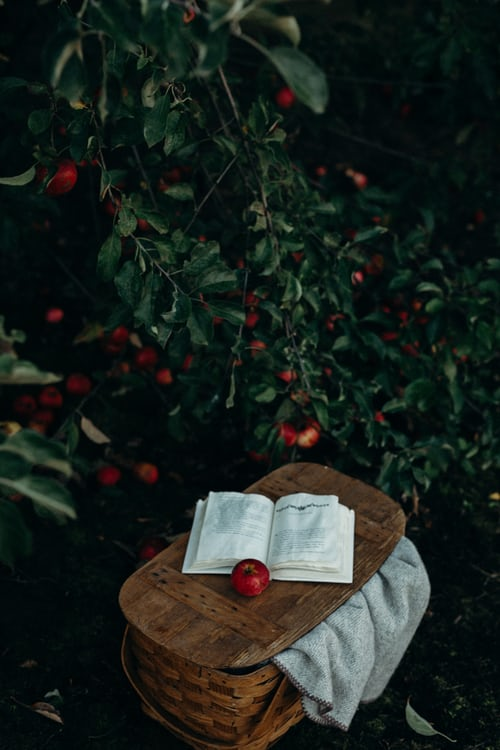apple: (226, 557, 273, 596), (42, 161, 76, 196)
